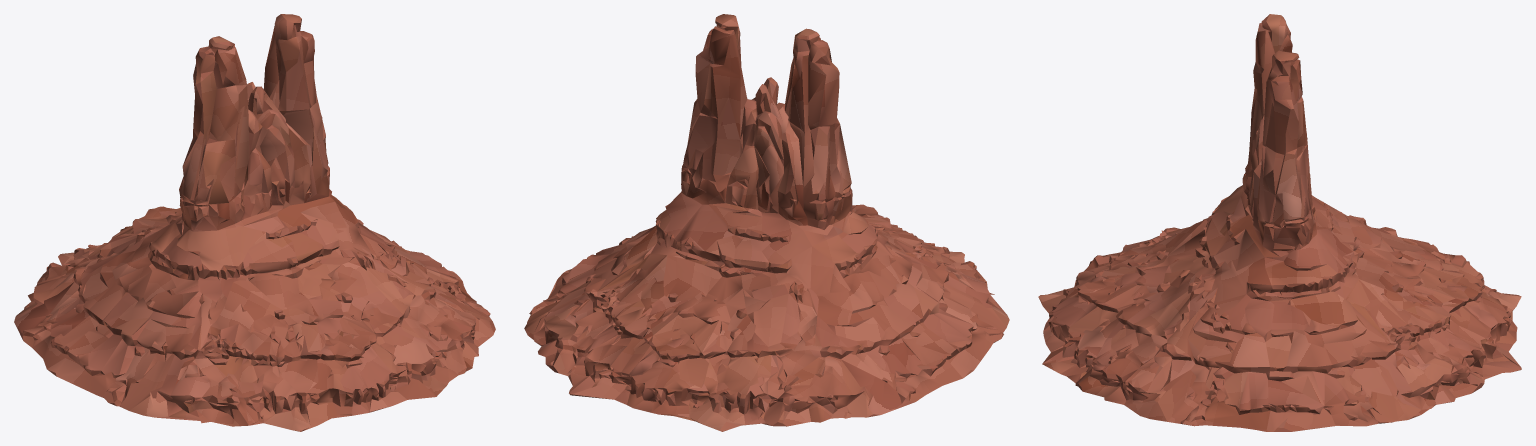
The model's file is butte.glb.
3 views of the same model, side by side, from view 1: azimuth 30°, elevation 25°; view 2: azimuth 150°, elevation 25°; view 3: azimuth 270°, elevation 25° (orthographic).
Size of the model in its own units: 1.83 by 1.29 by 1.9.
1 material, 1 textured.
